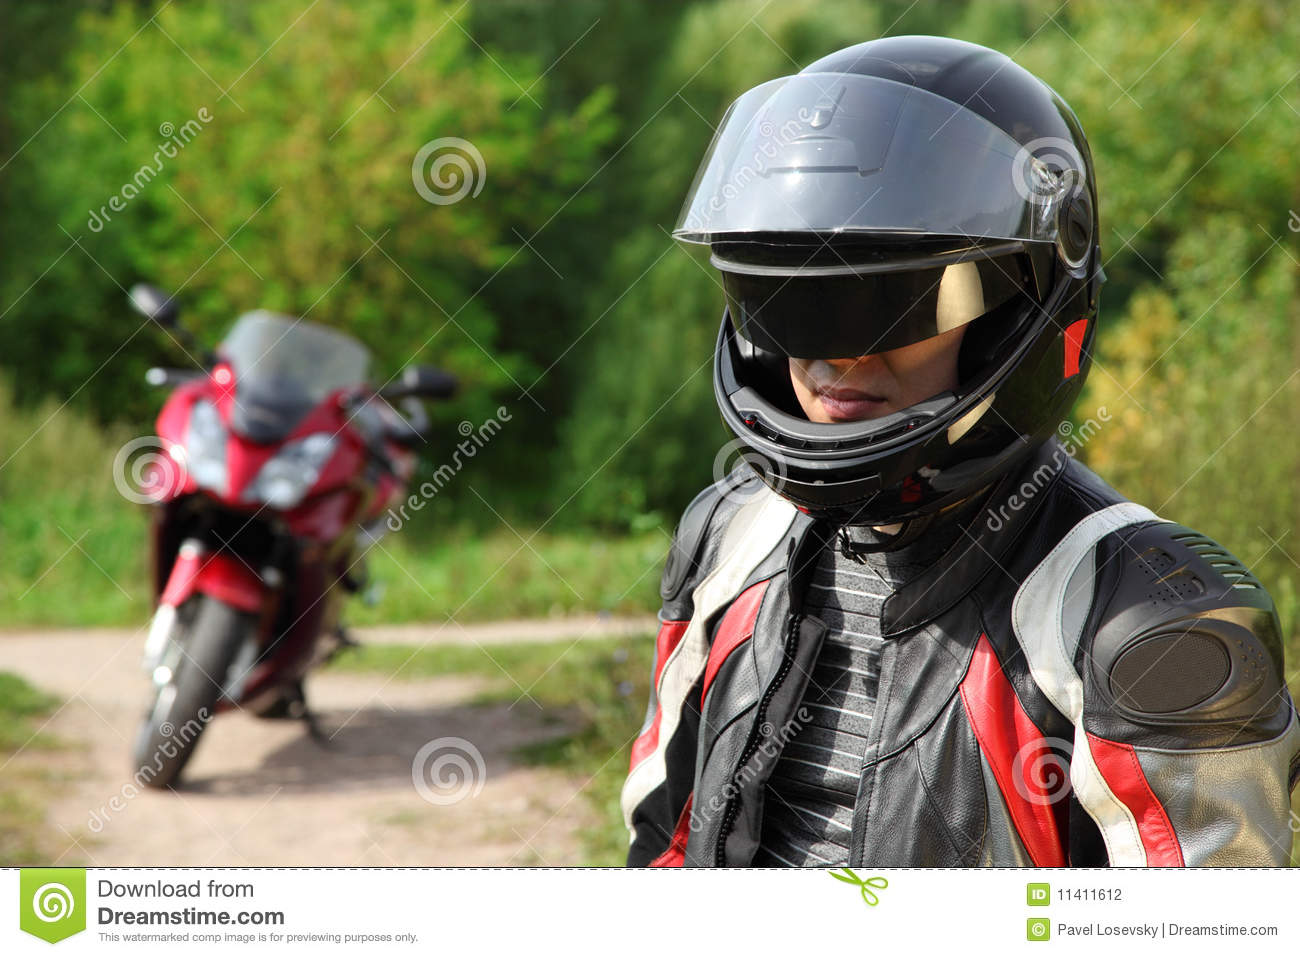helmet: (691, 48, 1075, 488)
